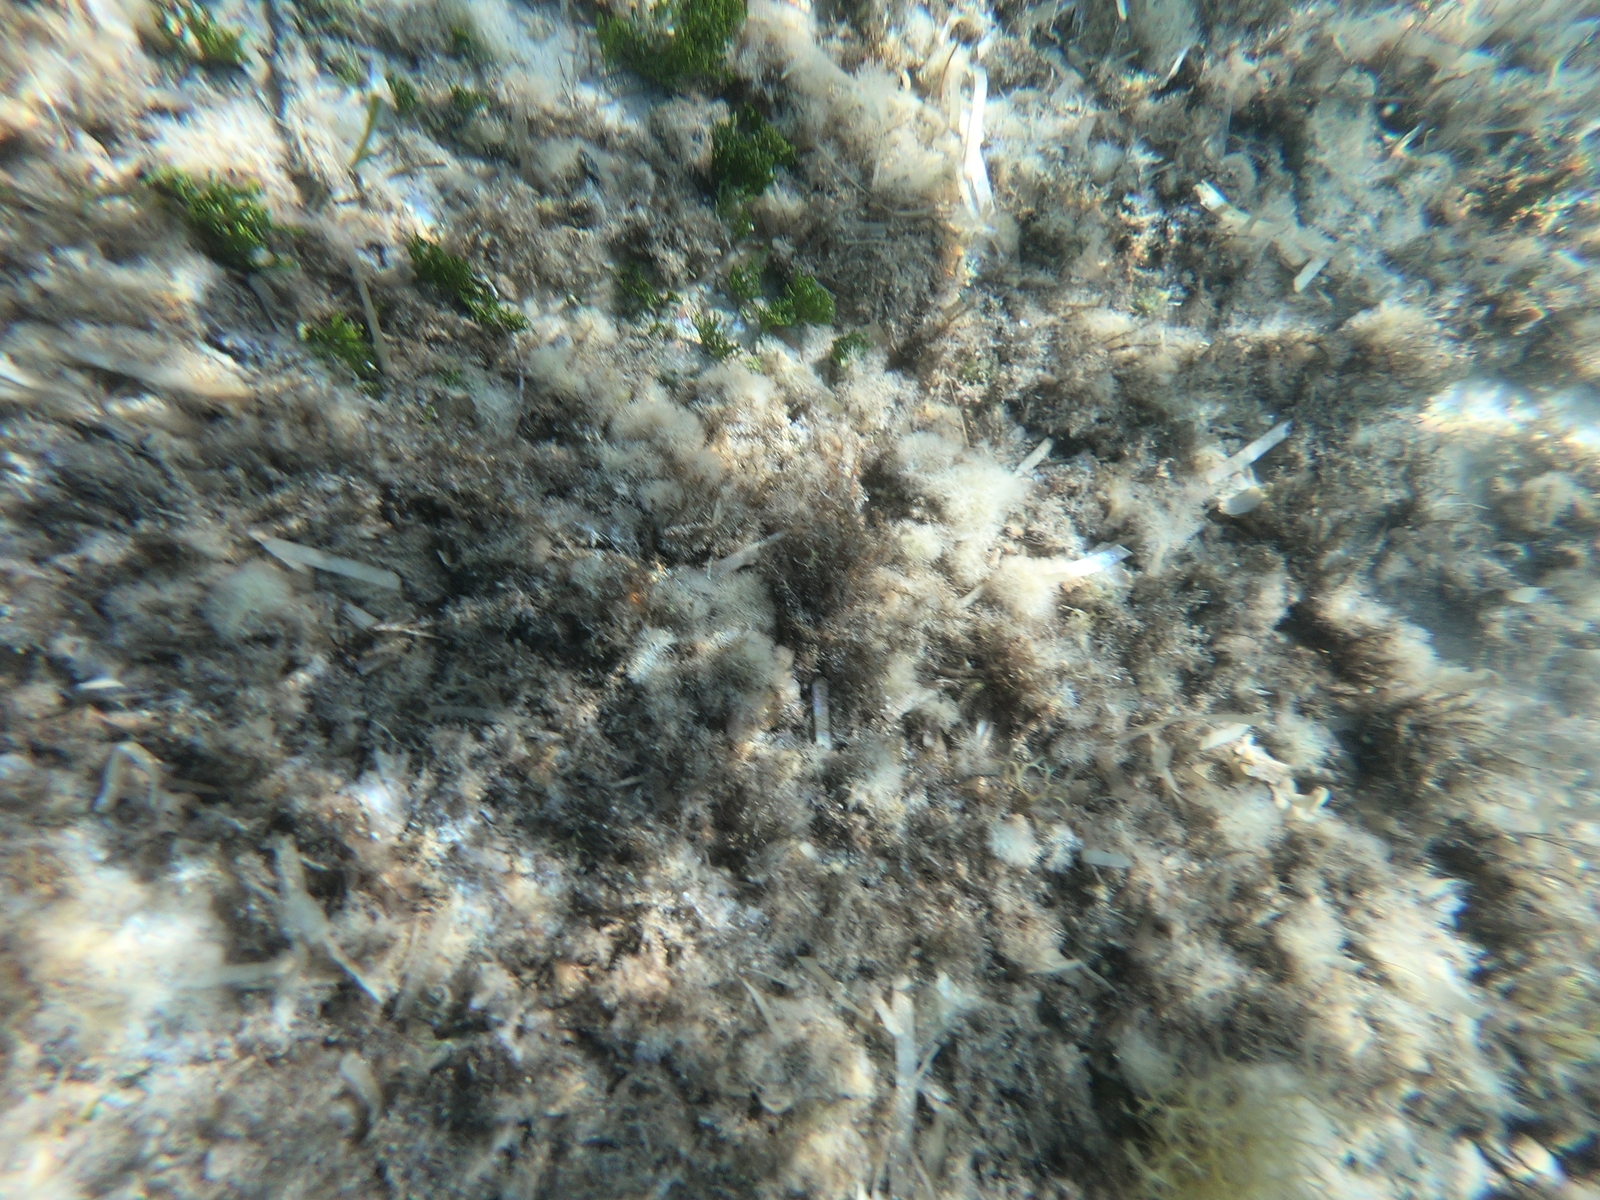halimeda: (144, 166, 294, 262), (593, 1, 746, 79), (716, 101, 794, 197), (159, 3, 256, 67), (305, 314, 373, 378), (407, 236, 472, 297), (614, 263, 682, 319), (459, 291, 532, 328), (786, 274, 837, 318), (716, 193, 753, 236), (694, 316, 732, 355), (763, 295, 804, 330), (830, 330, 873, 363), (731, 265, 757, 309), (338, 47, 367, 86), (452, 86, 485, 118), (391, 76, 417, 116), (457, 18, 472, 57)
